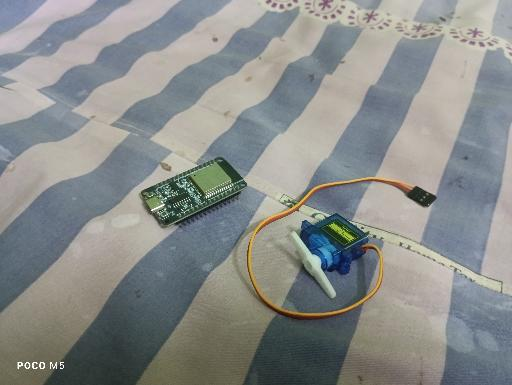Esp32: (141, 156, 248, 230)
Motor: (289, 212, 370, 300)
